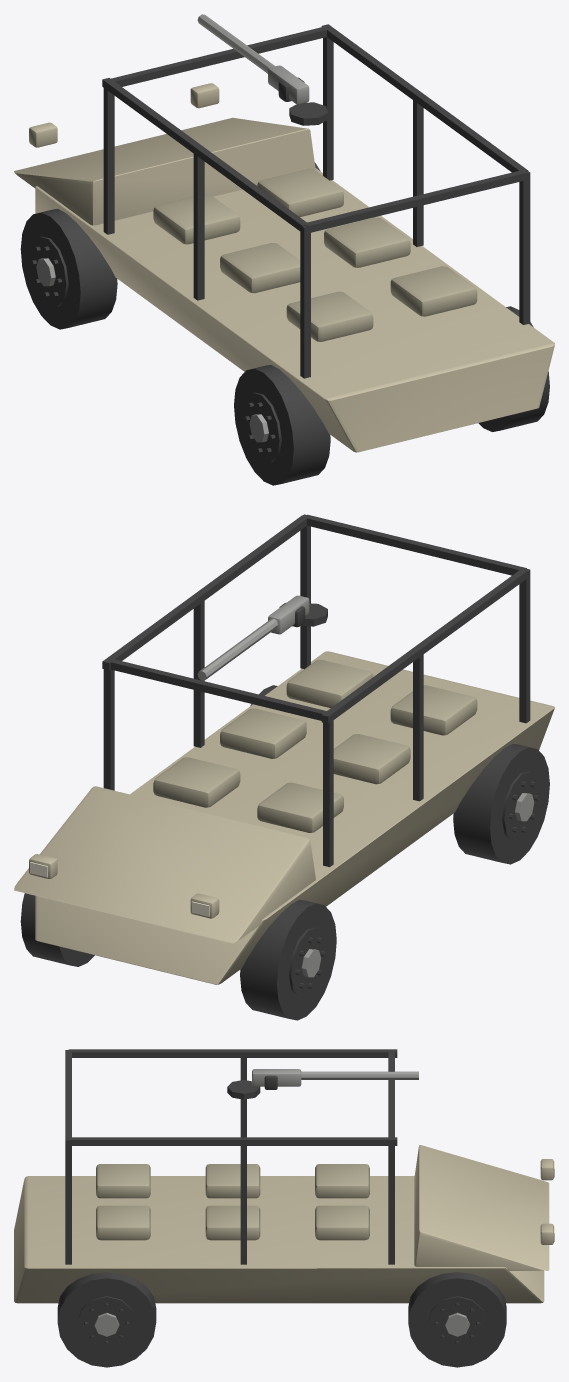
The model's file is usa_lv_isv_hv.glb.
3 views of the same model, one above another, from view 1: azimuth 30°, elevation 25°; view 2: azimuth 150°, elevation 25°; view 3: azimuth 270°, elevation 25° (orthographic). The views are drawn at different scales.
Parts seen in each view (by area): view 1: body, wheel_0, wheel_2, barrel, wheel_3, turret; view 2: body, wheel_2, wheel_0, barrel, wheel_1; view 3: body, wheel_3, wheel_1, barrel, turret.
Part boxes in pixels (x1=…): body: x1=14, y1=24, x2=554, y2=452; wheel_0: x1=20, y1=208, x2=117, y2=329; wheel_2: x1=234, y1=365, x2=330, y2=485; barrel: x1=197, y1=14, x2=309, y2=104; wheel_3: x1=478, y1=306, x2=549, y2=431; turret: x1=289, y1=102, x2=327, y2=125; body: x1=14, y1=514, x2=554, y2=984; wheel_2: x1=453, y1=743, x2=549, y2=864; wheel_0: x1=240, y1=899, x2=336, y2=1020; barrel: x1=197, y1=595, x2=309, y2=680; wheel_1: x1=20, y1=893, x2=94, y2=966; body: x1=14, y1=1049, x2=554, y2=1303; wheel_3: x1=57, y1=1272, x2=156, y2=1367; wheel_1: x1=408, y1=1272, x2=506, y2=1367; barrel: x1=252, y1=1069, x2=418, y2=1089; turret: x1=227, y1=1080, x2=260, y2=1099.
Bounding box in the file's own units: 2.34 × 2.47 × 4.94.
